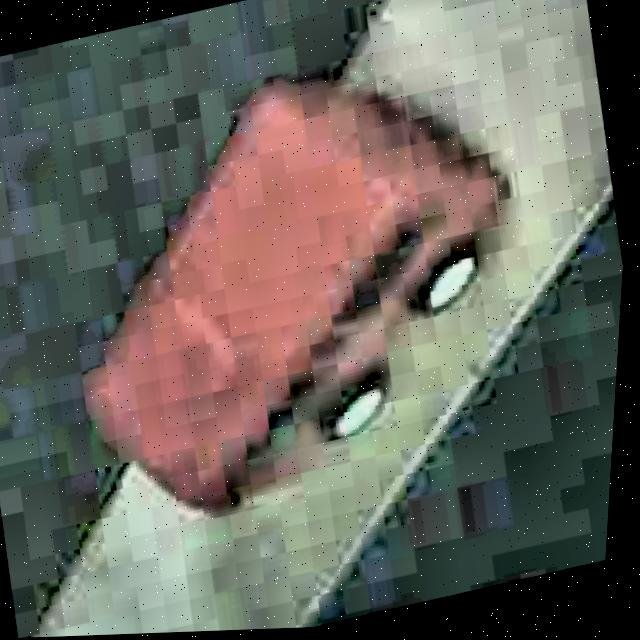bus: (21, 33, 567, 545)
